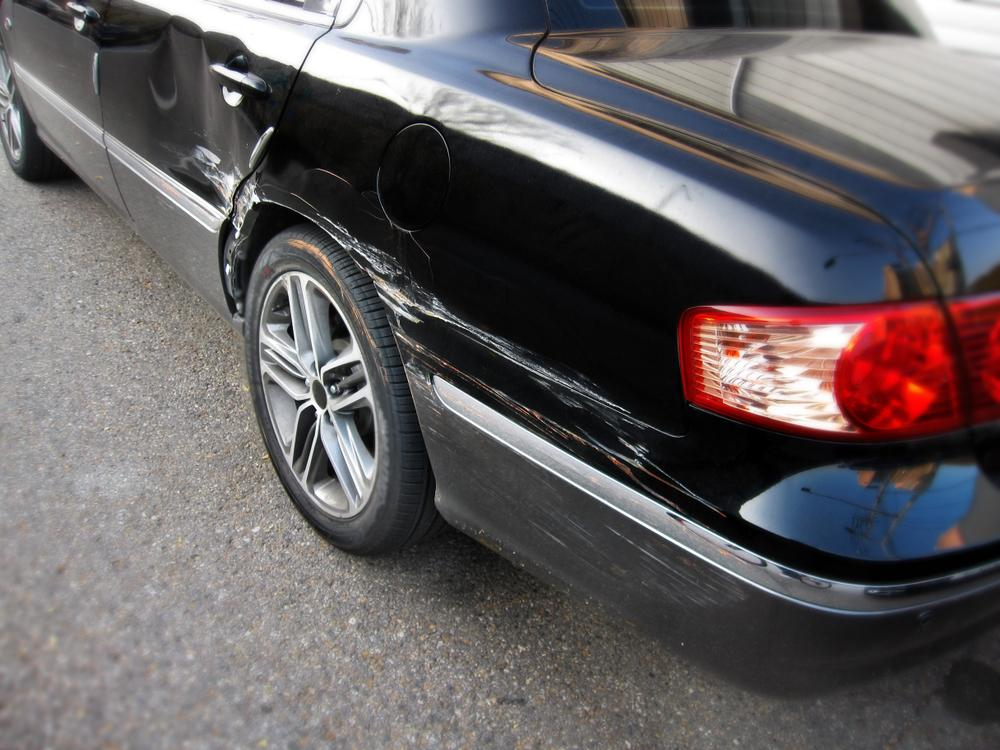dent: (143, 16, 251, 207)
scratch: (313, 218, 750, 608)
